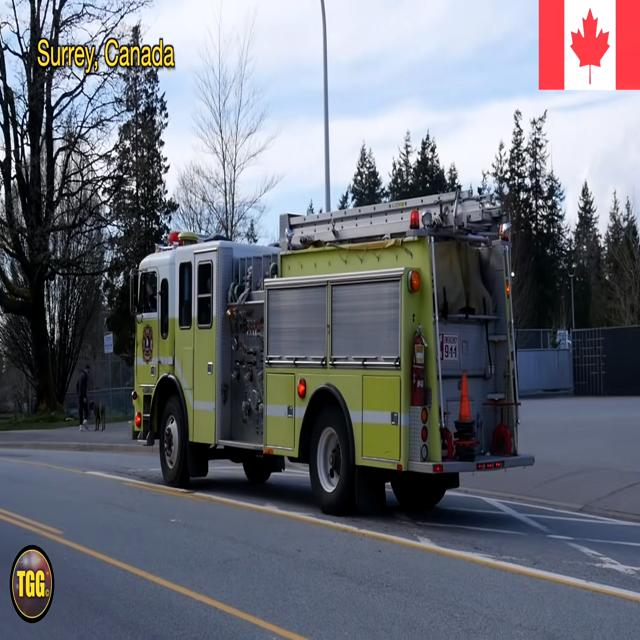emergency-vehicles: (110, 172, 551, 528)
